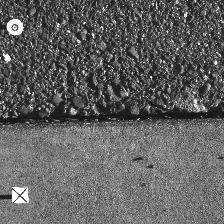circle: (6, 18, 23, 35)
crack: (1, 107, 223, 126)
square: (11, 187, 28, 203)
